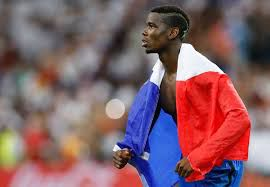French Flag: (129, 55, 248, 180)
